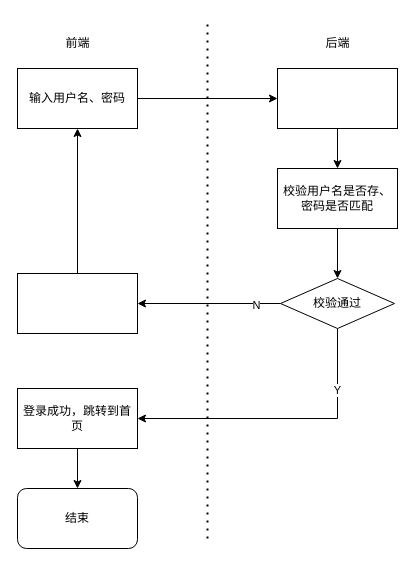
Image size: 415x566. Some labels were removed from this diagram. The box of each missing label's shape, as (x1, y1, x2, y2) in pixels:
接收用户名、密码: (276, 68, 398, 128)
登录失败，显示提示信息: (16, 272, 138, 334)
